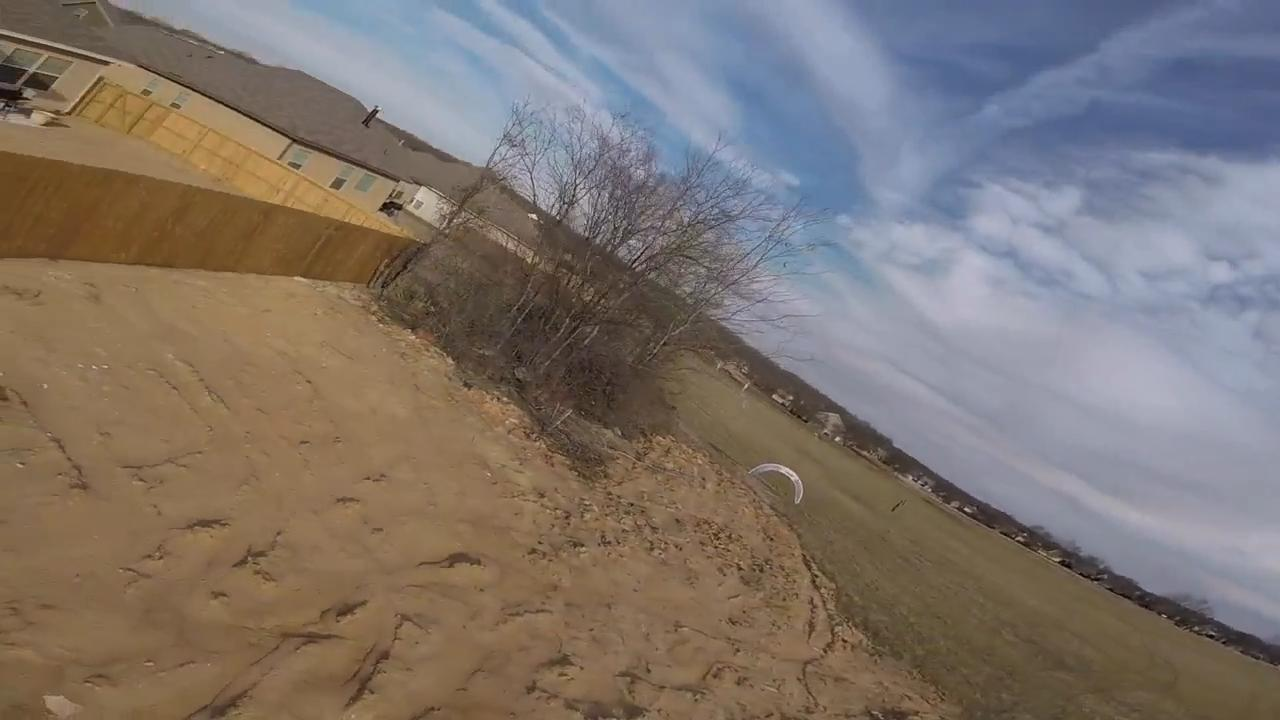gate: (750, 462, 806, 509)
